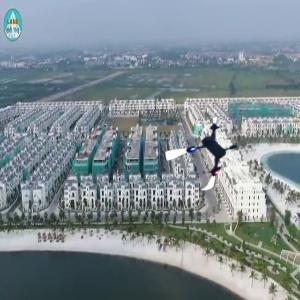drone: (166, 117, 245, 196)
